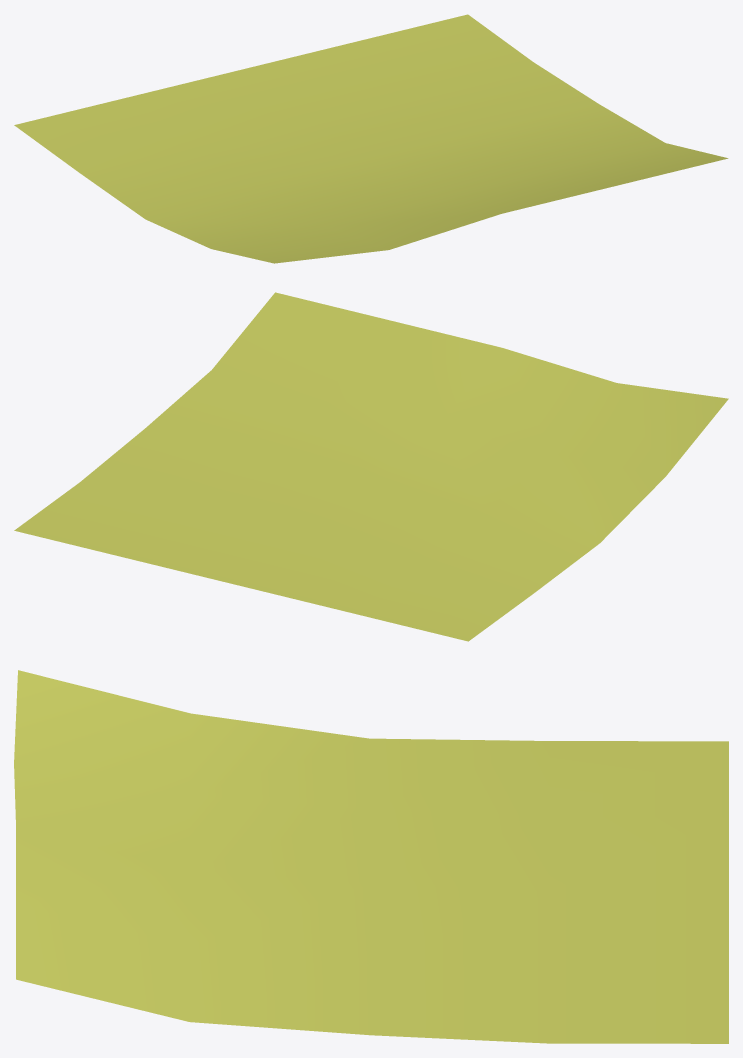
The model's file is note_sticker_00.glb.
3 views of the same model, one above another, from view 1: azimuth 30°, elevation 25°; view 2: azimuth 150°, elevation 25°; view 3: azimuth 270°, elevation 25° (orthographic). The views are drawn at different scales.
Visible parts, largest first — view 1: Plane.001__0; view 2: Plane.001__0; view 3: Plane.001__0.
Boxes of the visible parts, left/top/right/bottom form: Plane.001__0: left=14, top=14, right=728, bottom=263; Plane.001__0: left=14, top=292, right=728, bottom=641; Plane.001__0: left=14, top=670, right=728, bottom=1043.
Size of the model in its own units: 0.2 by 0.0219 by 0.1997.
